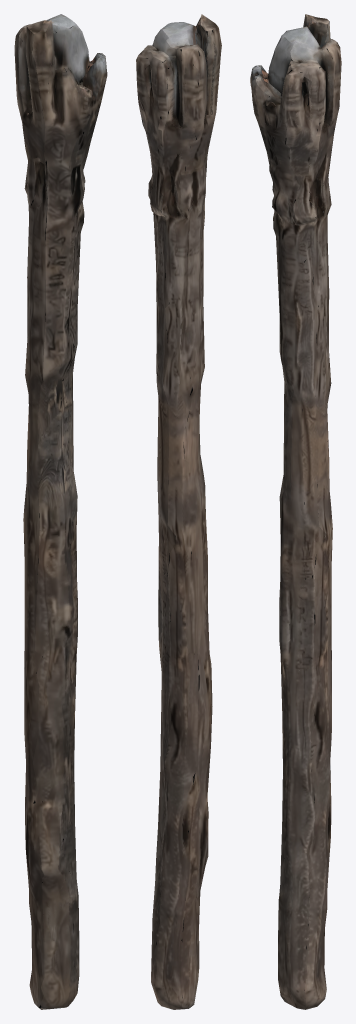
Rendered from SM_Staff_Forgotten_Relic_Staff.FBX.
The picture shows the model from 3 angles, left to right: view 1: azimuth 90°, elevation 25°; view 2: azimuth 210°, elevation 25°; view 3: azimuth 270°, elevation 25°; orthographic projection.
Visible parts, largest first — view 1: SM_Staff_Forgotten_Relic_Staff; view 2: SM_Staff_Forgotten_Relic_Staff; view 3: SM_Staff_Forgotten_Relic_Staff.
Part boxes in pixels (bbox=[...]): SM_Staff_Forgotten_Relic_Staff: bbox=[14, 14, 107, 1009]; SM_Staff_Forgotten_Relic_Staff: bbox=[136, 14, 221, 1009]; SM_Staff_Forgotten_Relic_Staff: bbox=[250, 14, 341, 1009].
Size of what is drawn, in the model's own units: 11.99 by 13.52 by 161.
